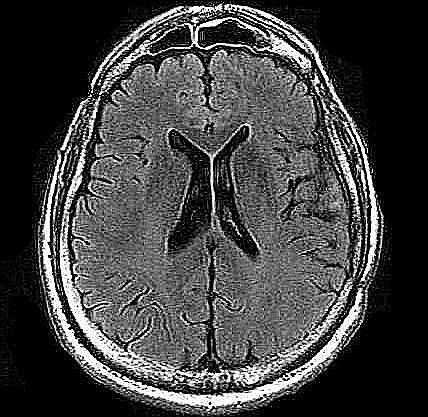Normal_Brain: (4, 6, 428, 417)
